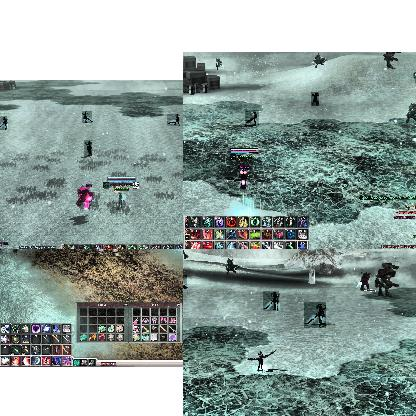caliana: (304, 302, 326, 328), (263, 291, 279, 311), (245, 110, 259, 126), (167, 114, 179, 126), (84, 140, 92, 156), (82, 111, 92, 123), (311, 92, 319, 106), (0, 116, 7, 129), (183, 274, 187, 289)
